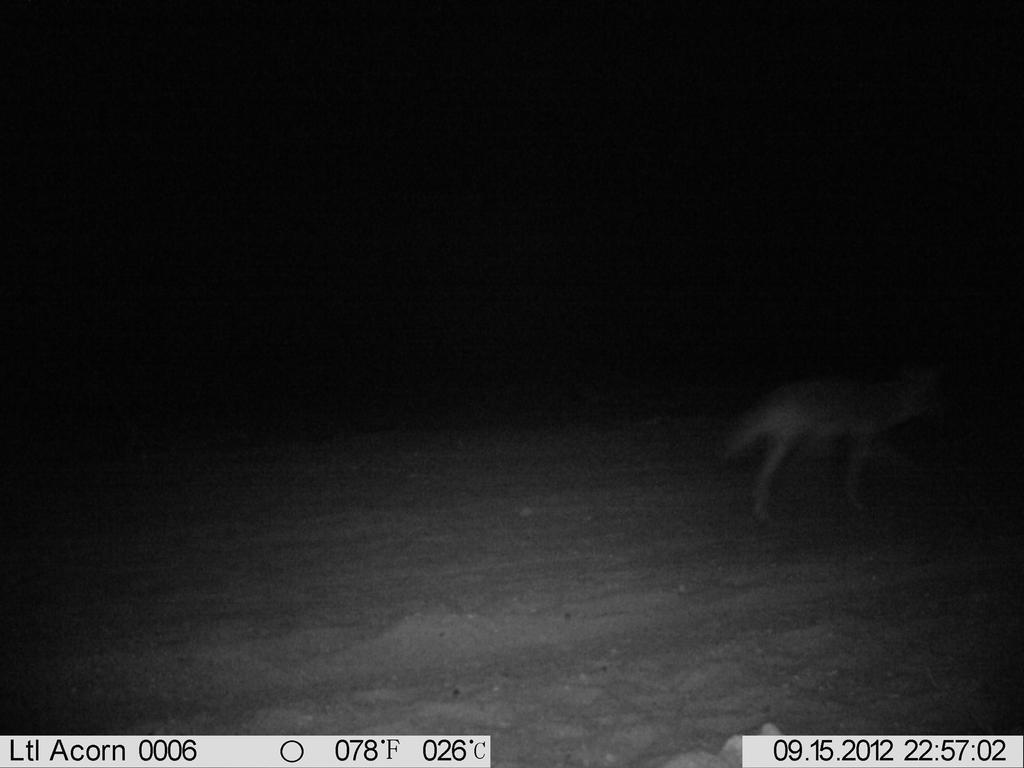coyote: (712, 353, 965, 538)
